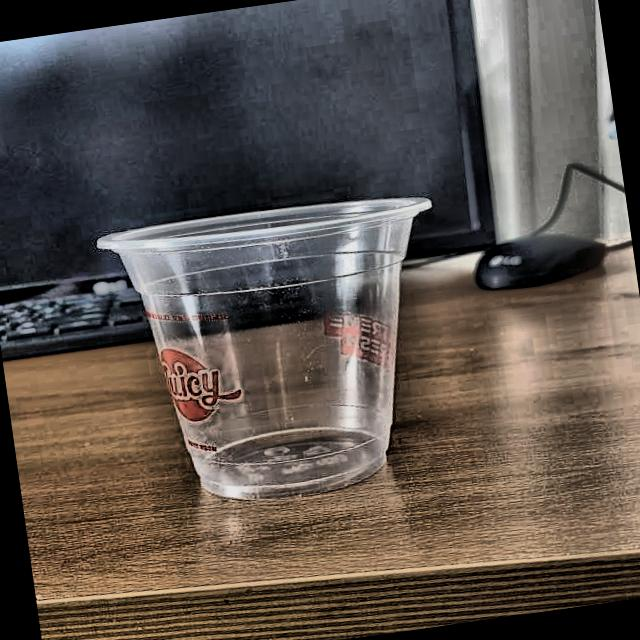plastic cup: (92, 182, 470, 521)
